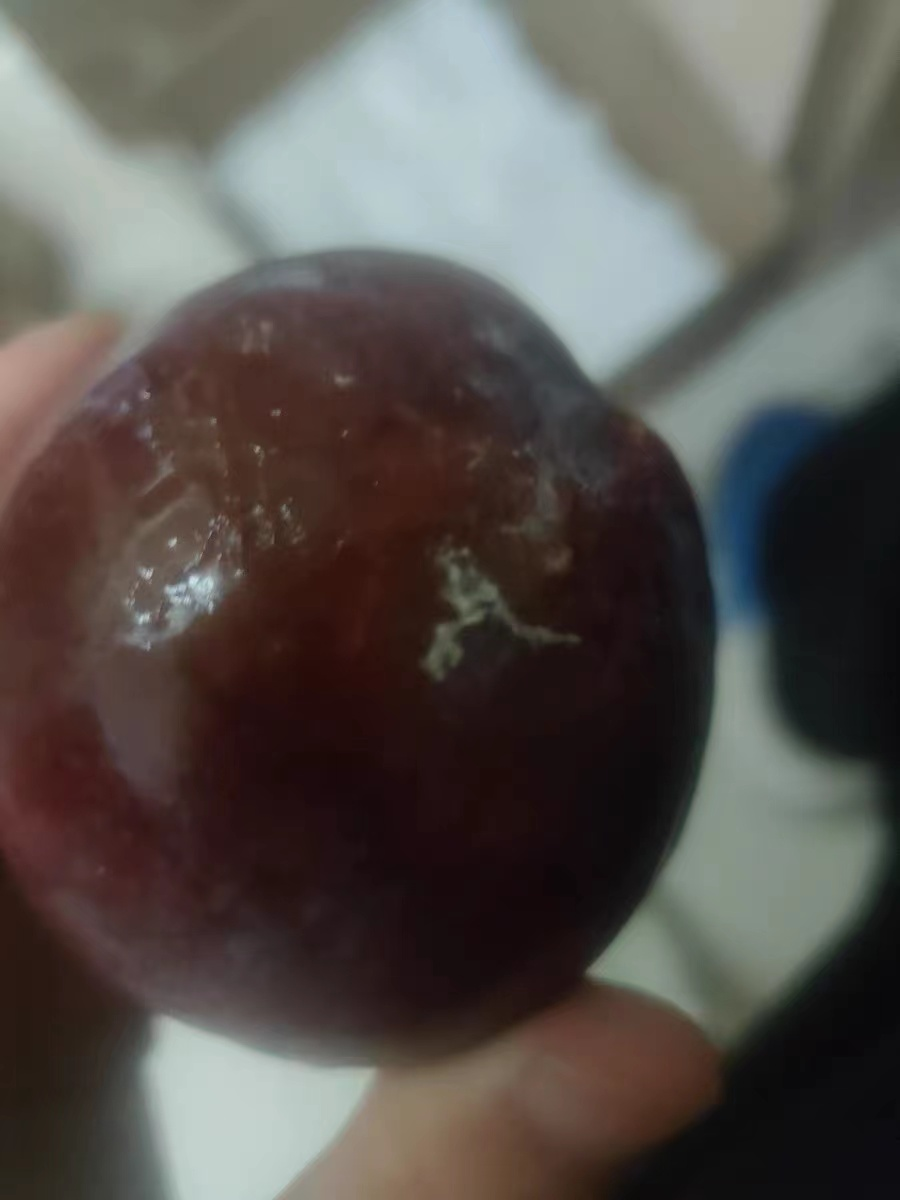plum_C: (2, 250, 720, 1074)
